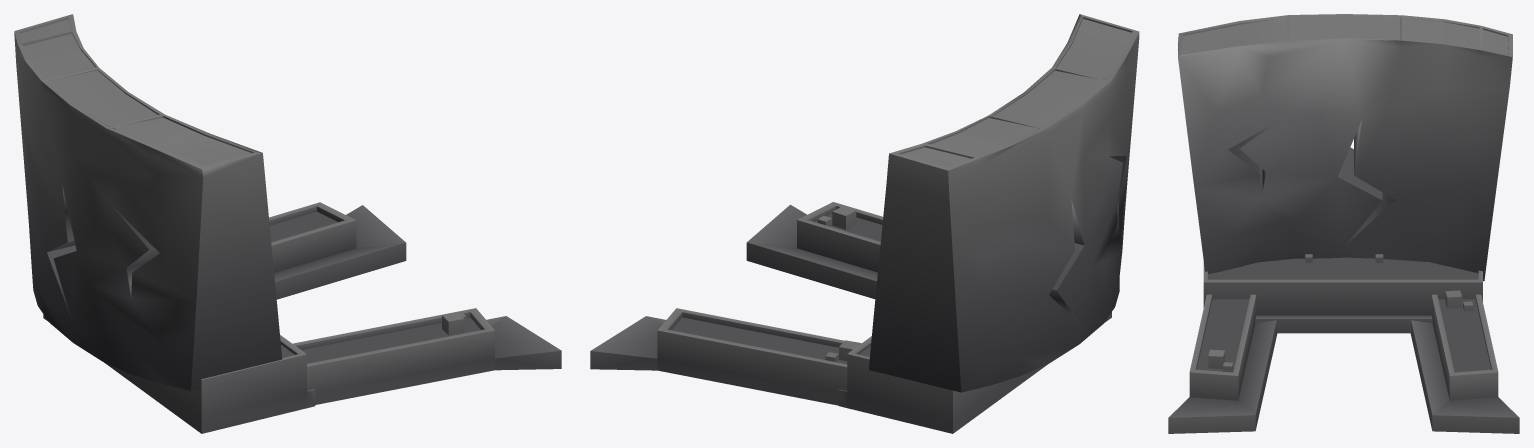
File: SM_Dam_Broken_two_crack (1).fbx
3 renders of one model, left to right at view 1: azimuth 30°, elevation 25°; view 2: azimuth 150°, elevation 25°; view 3: azimuth 270°, elevation 25°, orthographic. The views are drawn at different scales.
Parts seen in each view (by area): view 1: DamBroken.023, DamBroken.001; view 2: DamBroken.023, DamBroken.001; view 3: DamBroken.023, DamBroken.001.
Part boxes in pixels (x1,y1,x2,y2): DamBroken.023: [14, 14, 282, 390]; DamBroken.001: [43, 202, 561, 433]; DamBroken.023: [868, 14, 1139, 392]; DamBroken.001: [590, 202, 1111, 433]; DamBroken.023: [1178, 14, 1512, 281]; DamBroken.001: [1168, 254, 1519, 433].
Bounding box in the file's own units: 2740 × 2413 × 1910.
